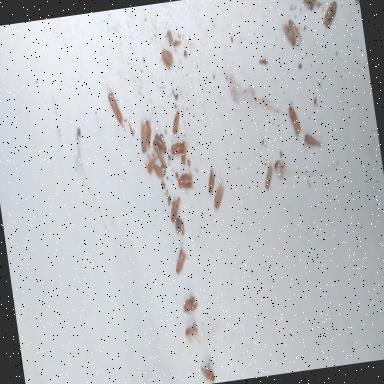pbw: (171, 165, 194, 191), (320, 0, 340, 28), (172, 244, 190, 275), (302, 126, 322, 152), (152, 138, 167, 172), (198, 355, 216, 383), (288, 104, 302, 137), (211, 183, 228, 209), (205, 164, 219, 195), (168, 196, 184, 223), (181, 293, 199, 317), (138, 120, 150, 154), (262, 161, 276, 190), (281, 21, 296, 47), (184, 320, 200, 344), (143, 151, 159, 174), (288, 18, 302, 44), (152, 162, 166, 184), (144, 119, 154, 148), (170, 110, 182, 134), (154, 132, 167, 154), (170, 142, 186, 155), (302, 0, 318, 4)
